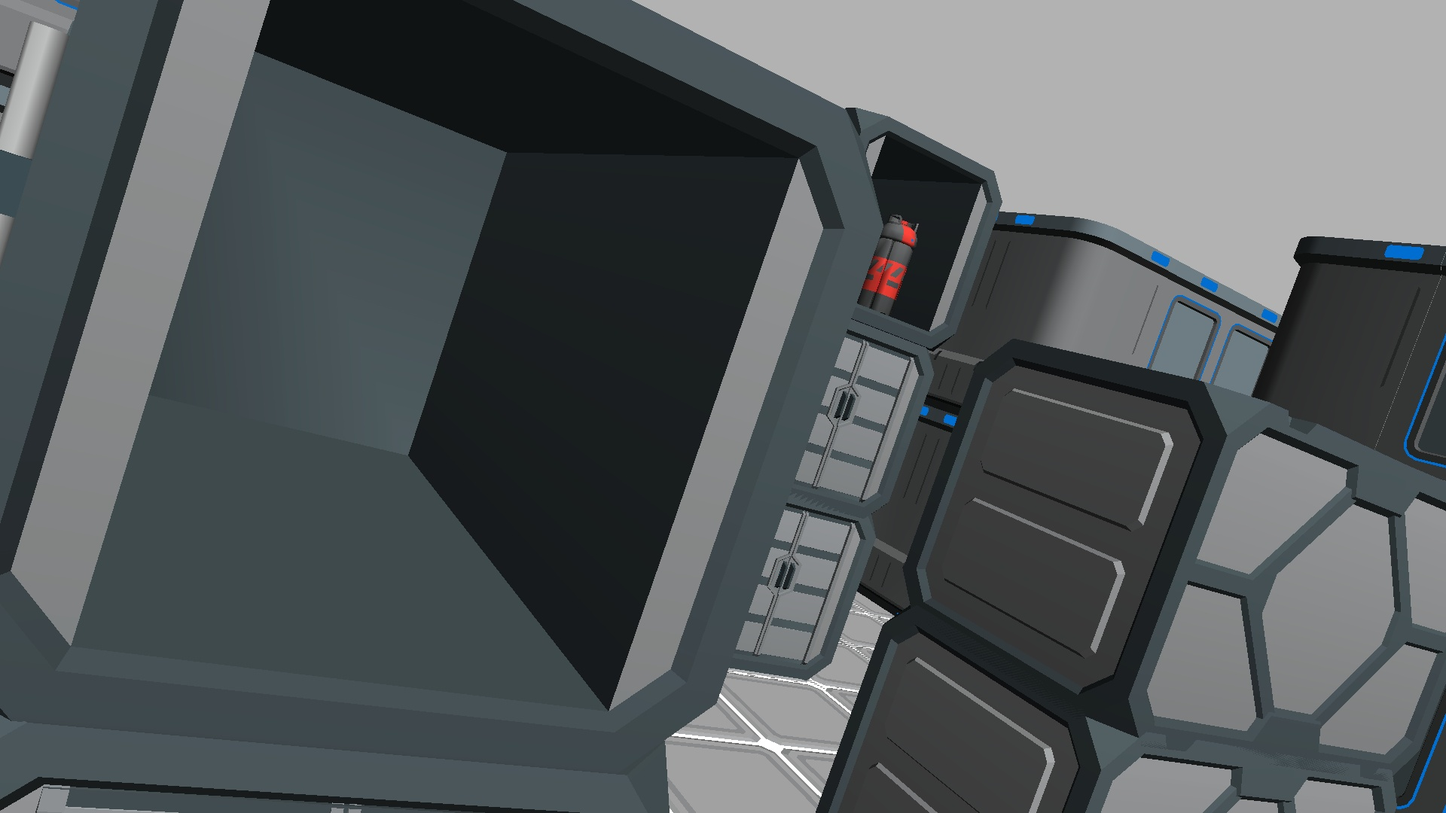red barrel: (857, 214, 919, 317)
